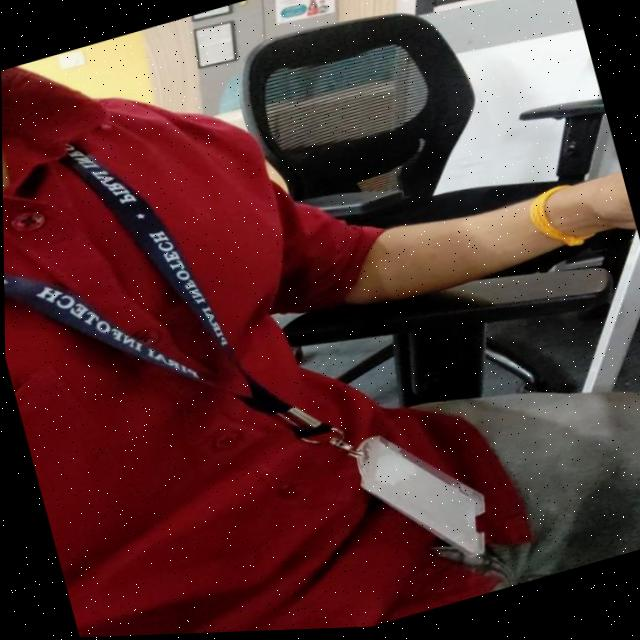id_card: (2, 117, 503, 638)
